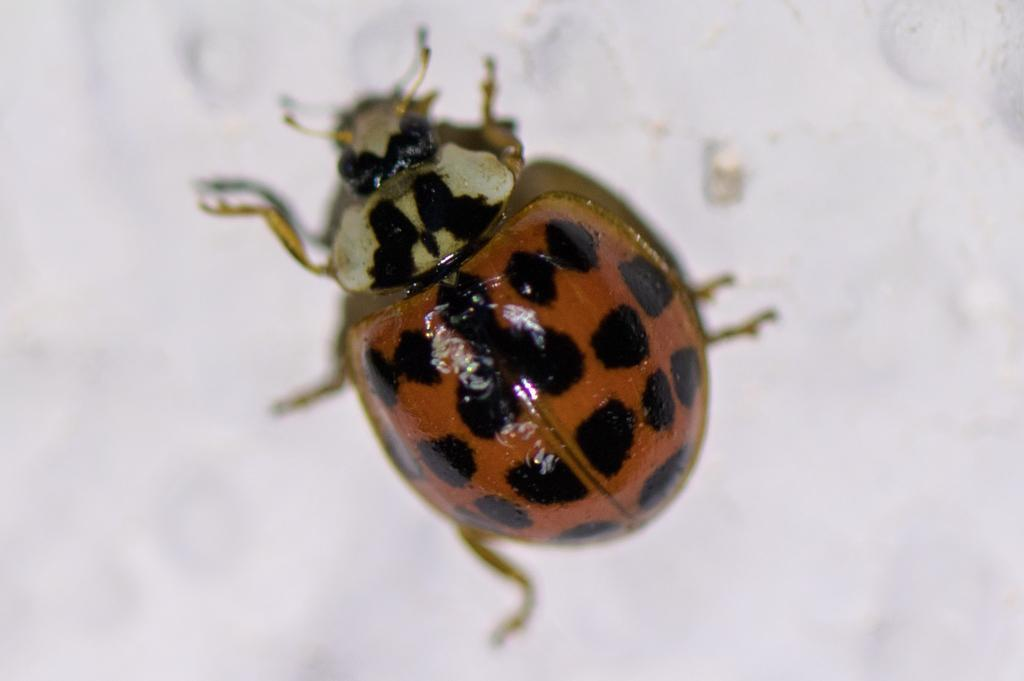ladybug: (195, 43, 785, 647)
